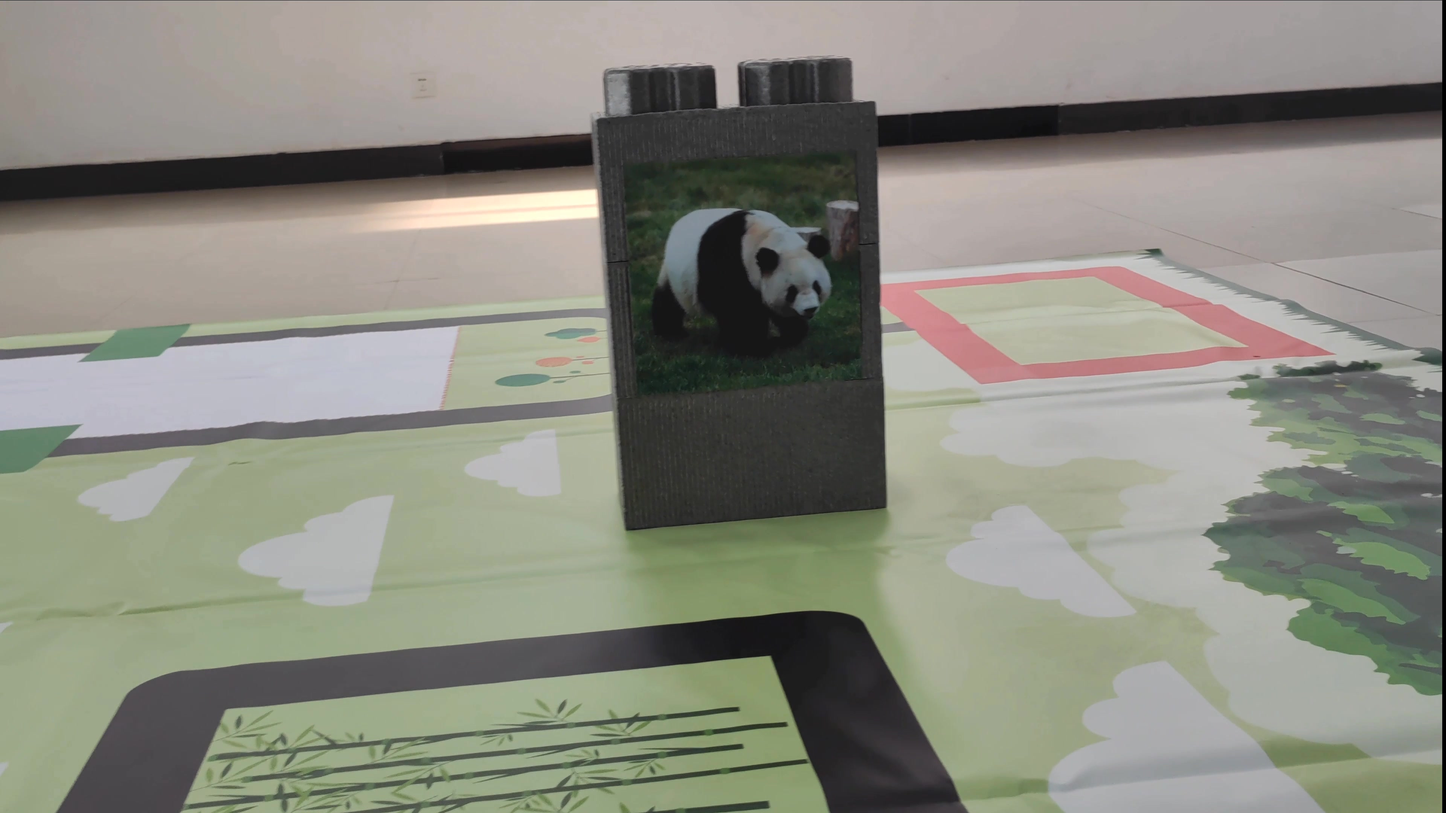panda: (647, 199, 840, 362)
